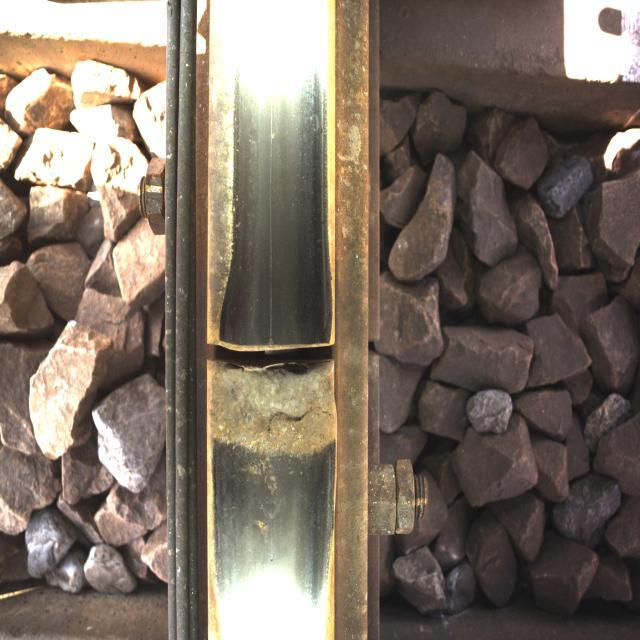spalling: (186, 285, 362, 435)
